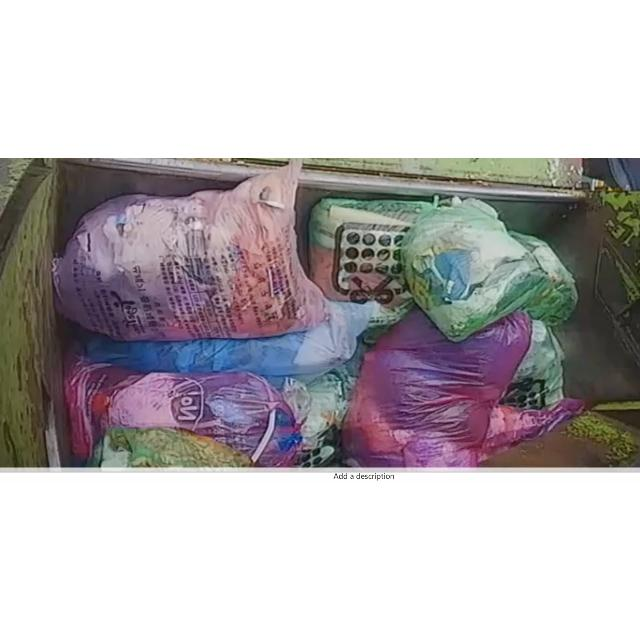general_trashbag: (401, 197, 570, 340), (309, 197, 435, 308), (509, 230, 578, 324), (501, 320, 564, 409)
other_trashbag: (54, 160, 325, 340), (342, 310, 584, 467), (65, 356, 302, 467), (86, 300, 374, 376)
